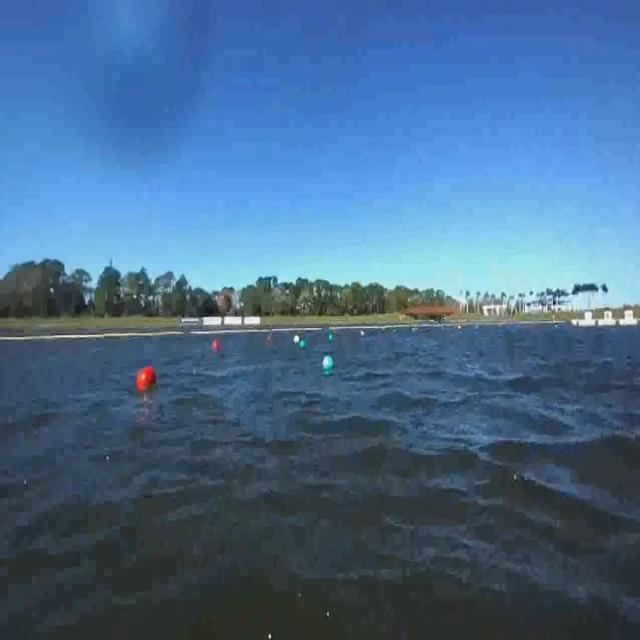green-buoy: (323, 354, 334, 370)
red-buoy: (138, 365, 157, 391), (213, 341, 220, 354)
